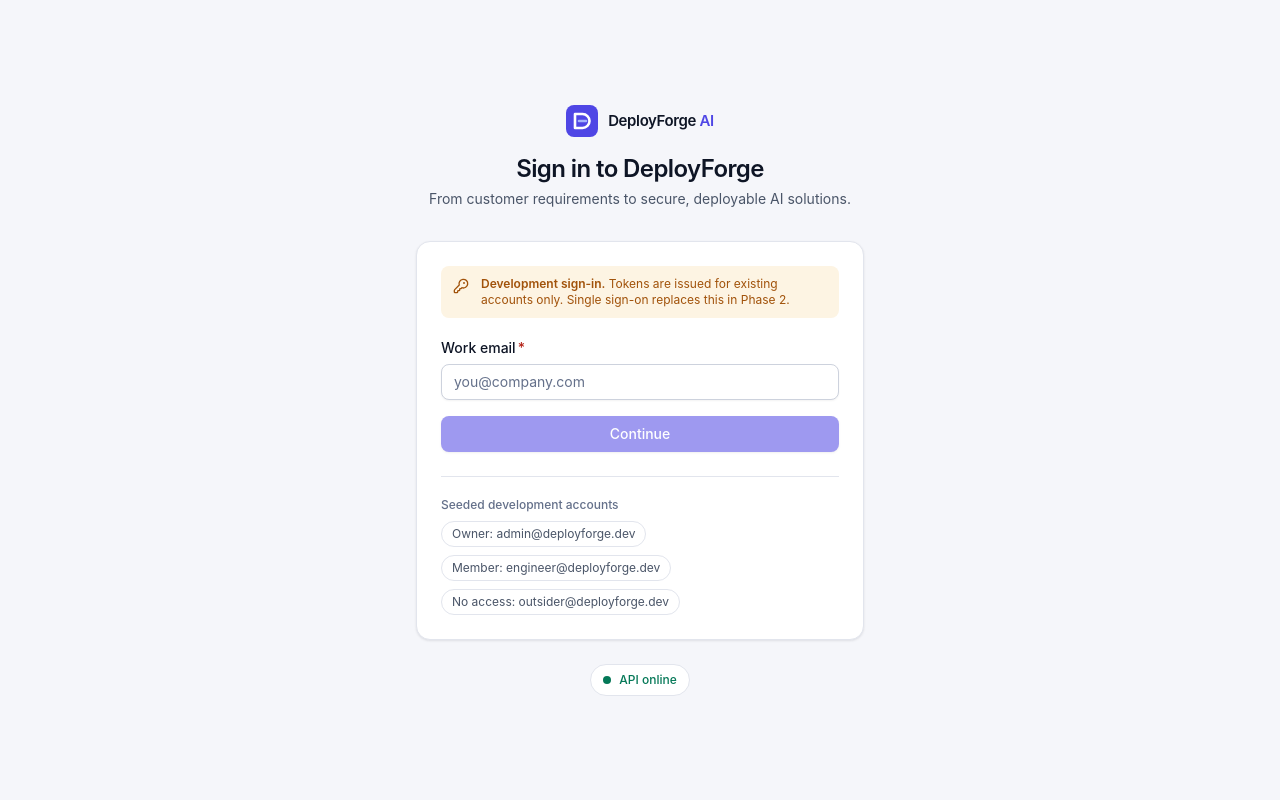
Test: application shell › signs in with a development account and lands on the dashboard
Type "admin@deployforge.dev" into the field labelled "Work email*" at (640, 382), box 441,364 -> 839,400
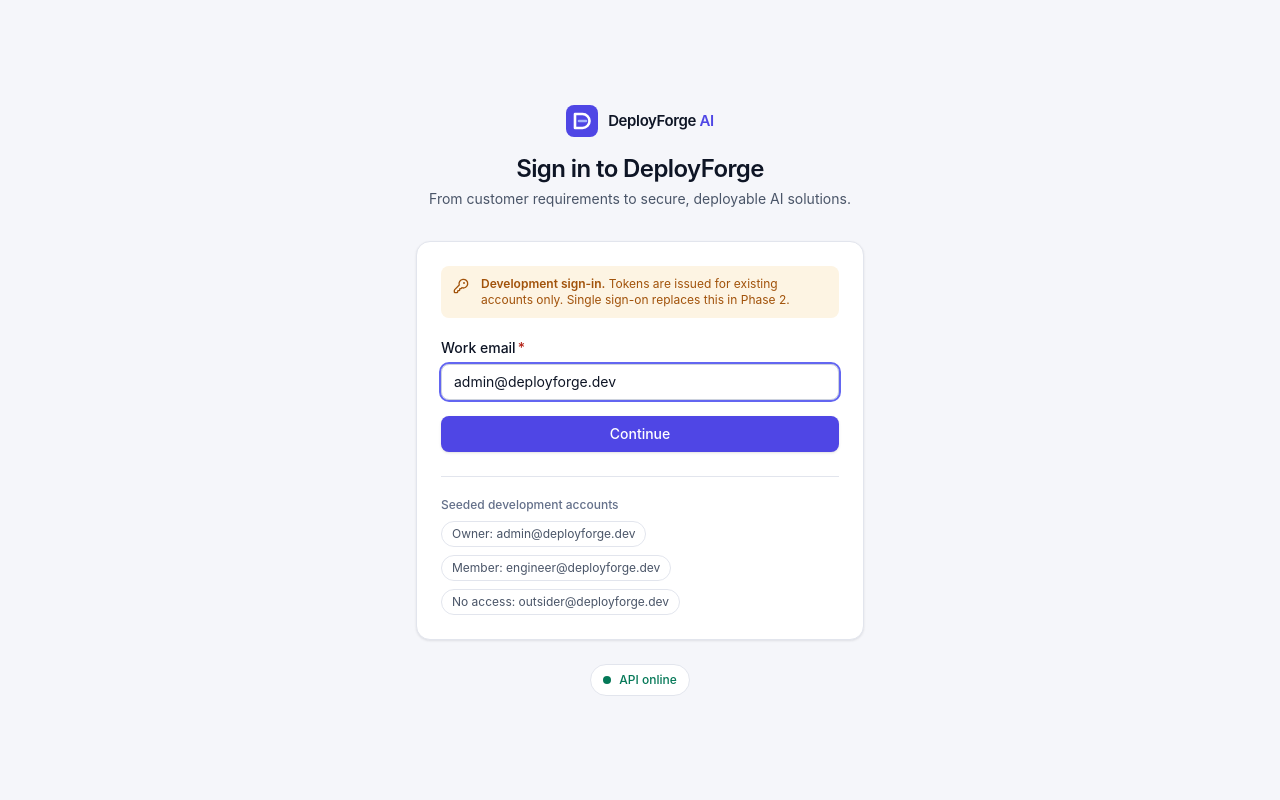
Click the button "Continue" at (640, 434), box 441,416 -> 839,452
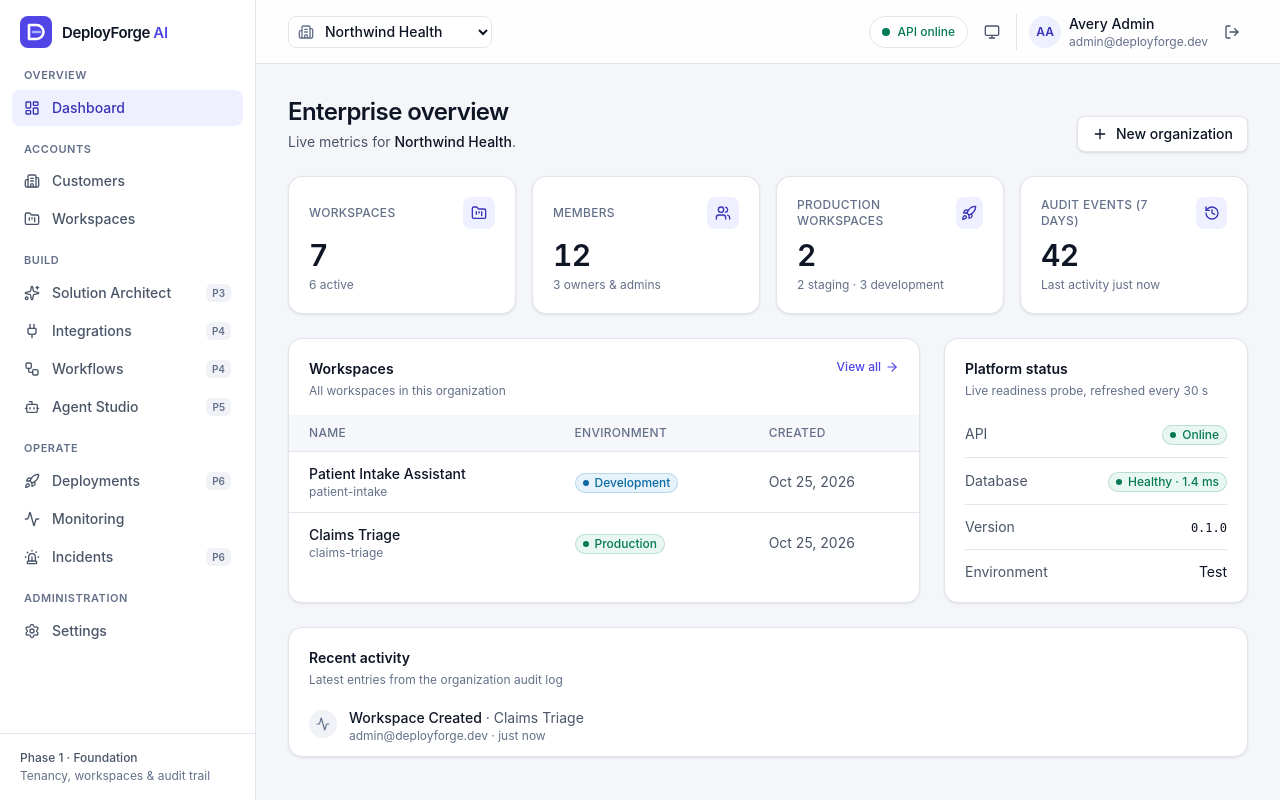
Expected: the heading "Enterprise overview" is shown, 288,96 -> 516,128
Expected: the text "Avery Admin" is shown, 1069,14 -> 1154,32
